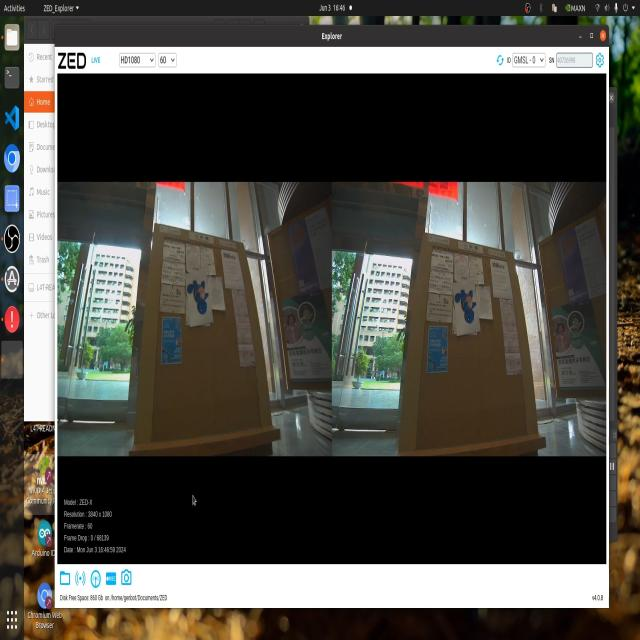blue: (457, 282, 482, 327), (187, 270, 209, 319)
